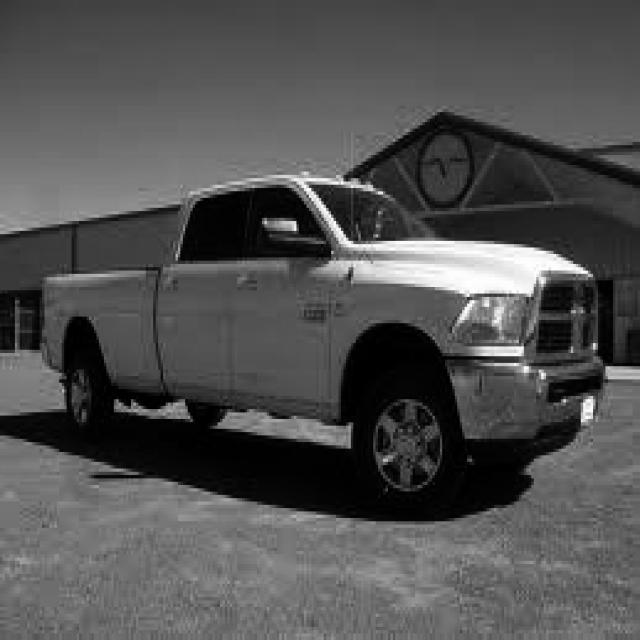car: (37, 172, 605, 512)
